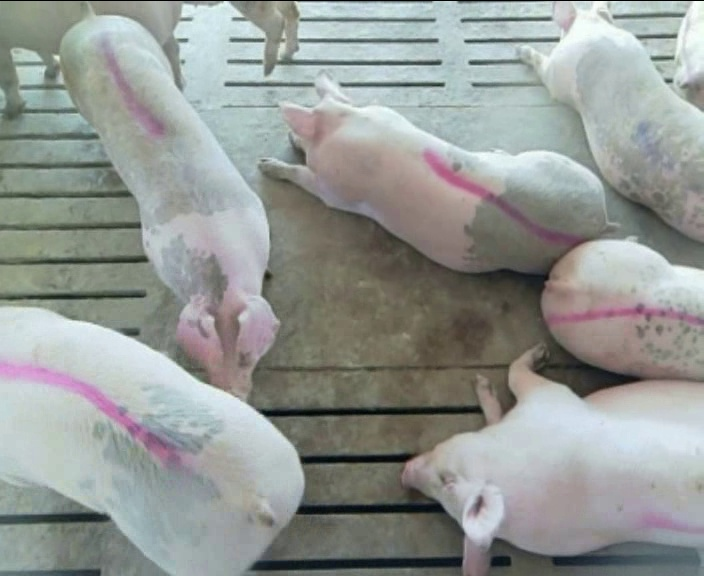pig: (60, 2, 278, 398), (258, 72, 617, 273), (403, 344, 703, 573), (518, 3, 703, 241), (542, 236, 703, 380)
